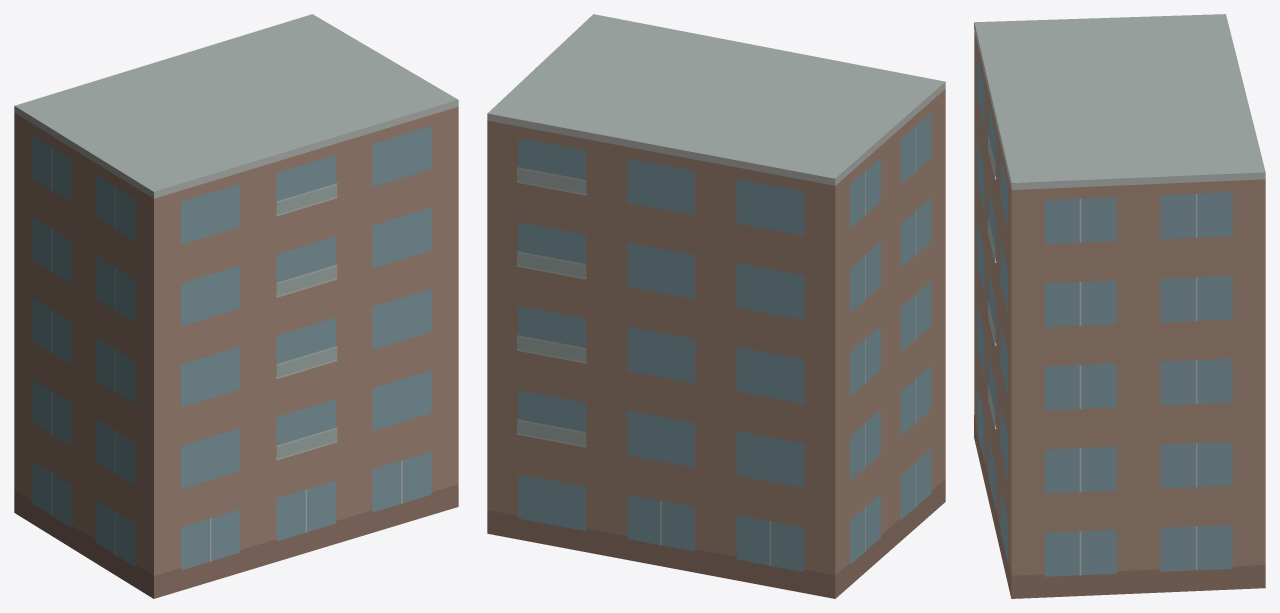
File: survey-upis-32655446.glb
3 views of the same model, side by side, from view 1: azimuth 30°, elevation 25°; view 2: azimuth 150°, elevation 25°; view 3: azimuth 270°, elevation 25° (orthographic). The views are drawn at different scales.
Visible parts, largest first — view 1: survey-upis-32655446.tmp; view 2: survey-upis-32655446.tmp; view 3: survey-upis-32655446.tmp.
Part boxes in pixels (x1,y1,x2,y2): survey-upis-32655446.tmp: (14,14,458,598); survey-upis-32655446.tmp: (487,14,945,598); survey-upis-32655446.tmp: (974,14,1265,598).
Bounding box in the file's own units: 12.66 × 14.5 × 9.22.
